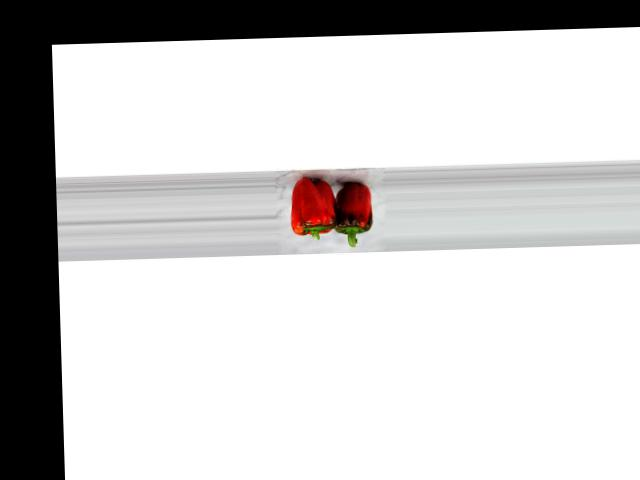bell_pepper: (282, 176, 336, 244)
